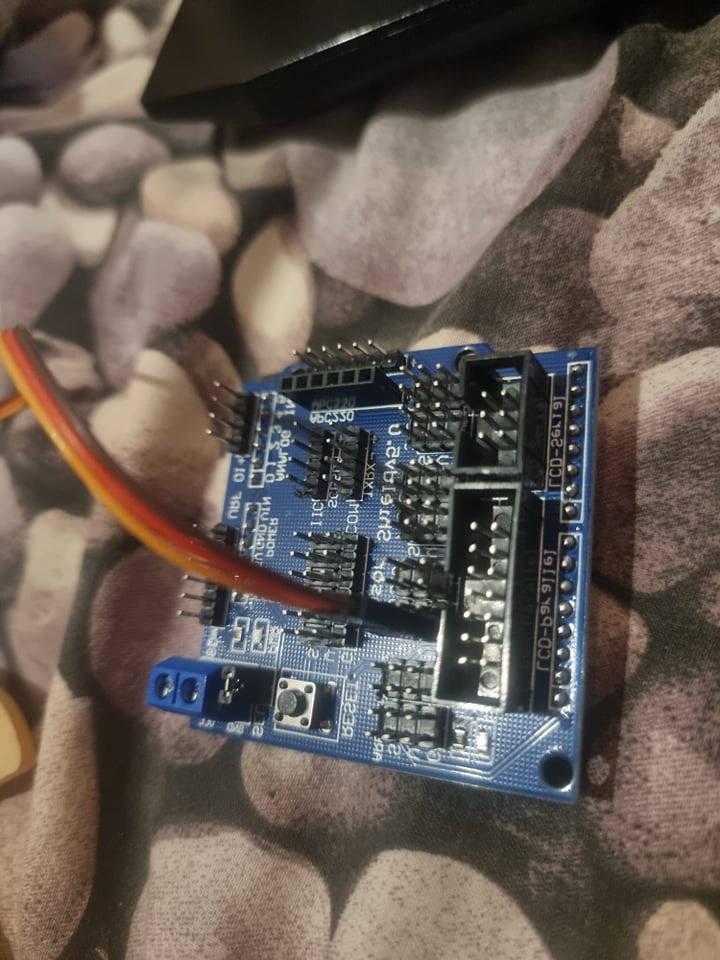5V EXPANSION: (147, 339, 603, 809)
